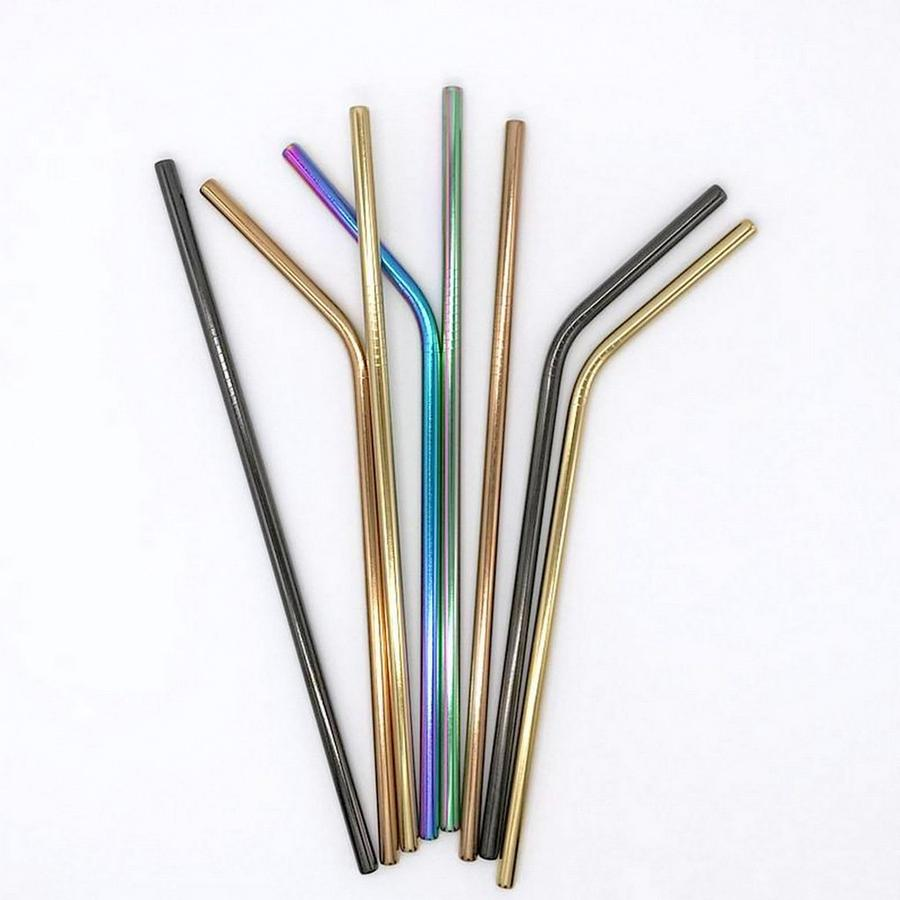Drinking Straw: (149, 151, 390, 878)
